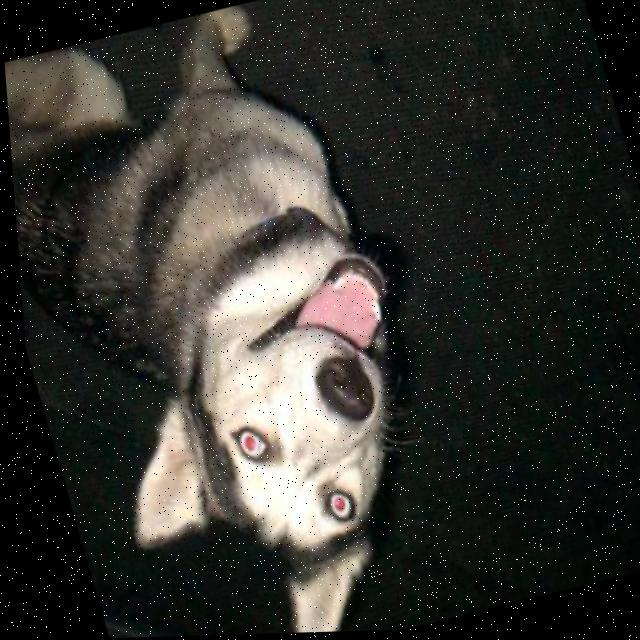dogs: (0, 0, 467, 640)
